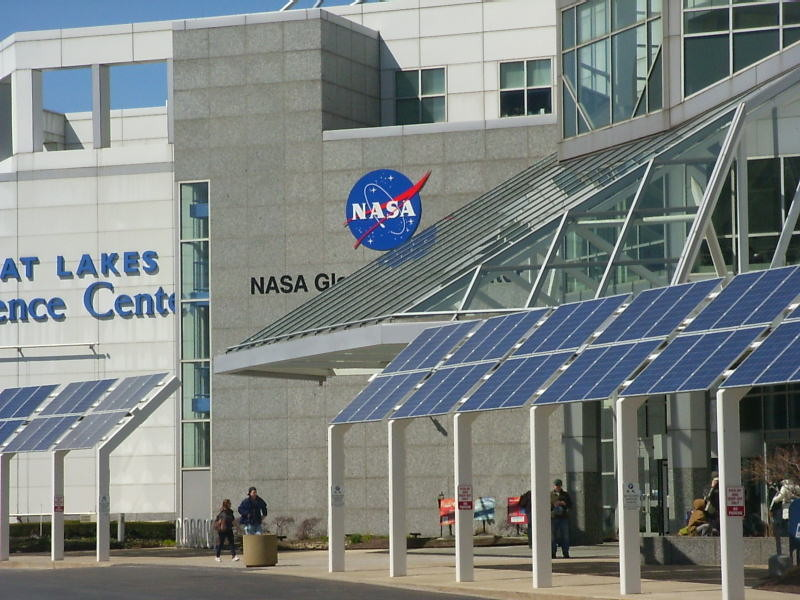NASA: (341, 165, 434, 254)
